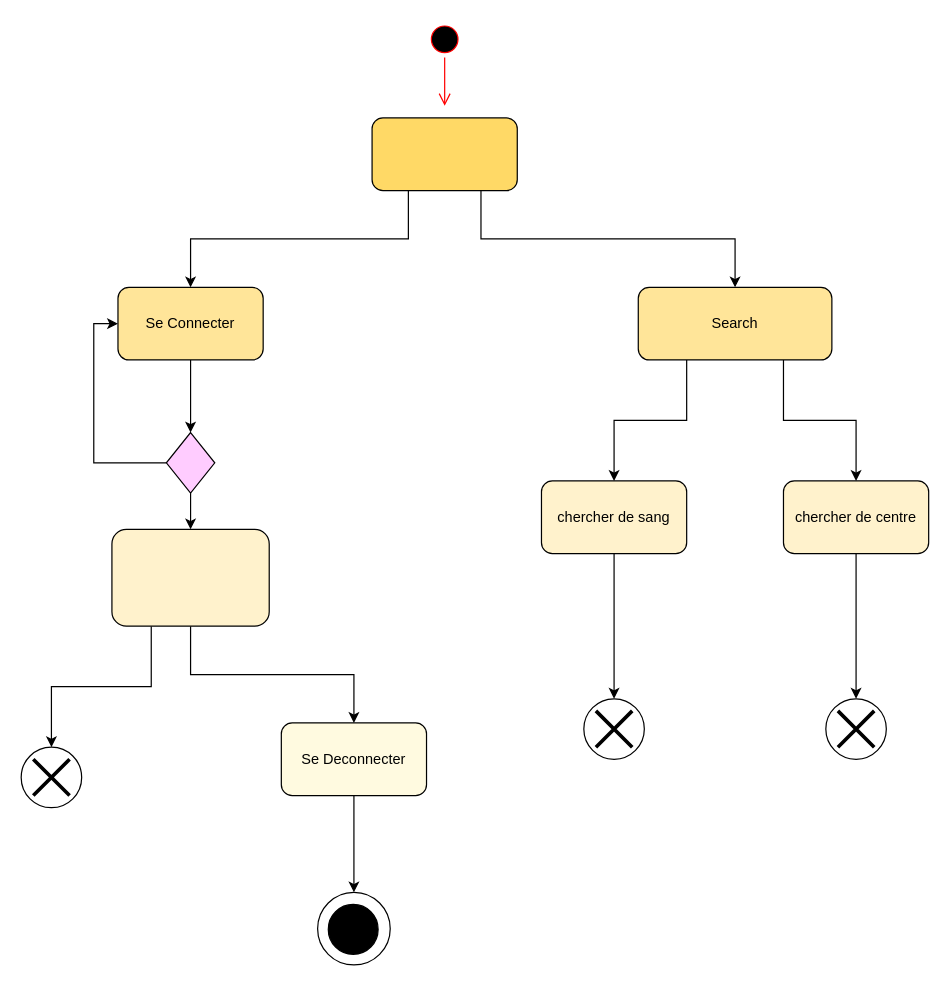
Image size: 950x986. Some labels were removed from this diagram. Each missing label, with the centre of its shape:
Demande un Don de Sang: the point at 190,577
User Home Page: the point at 444,154
